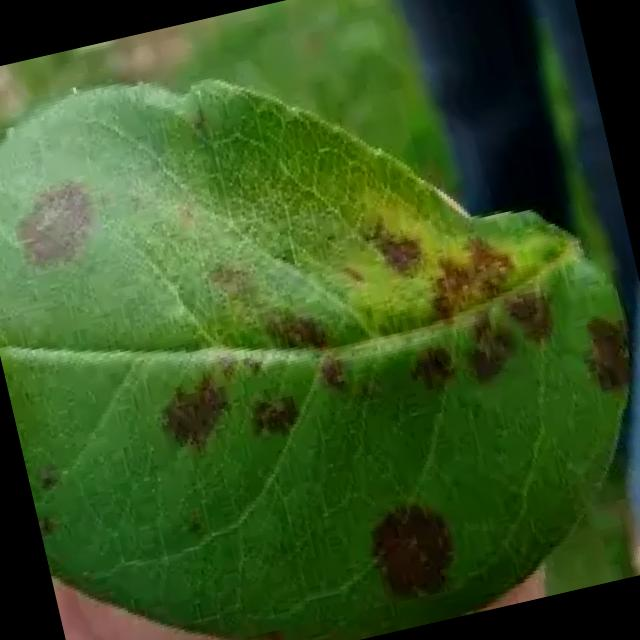leaf_spot: (0, 80, 623, 640)
